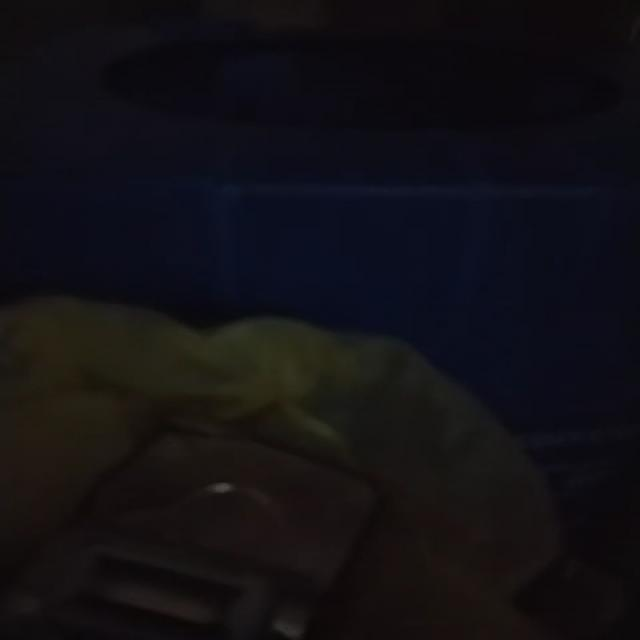bin: (2, 0, 640, 640)
metal: (25, 435, 377, 640)
